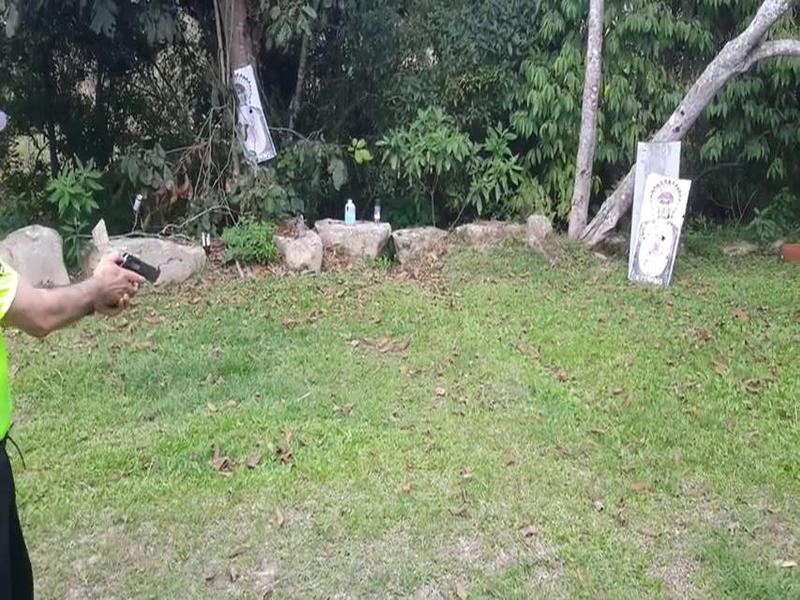Pistola: (107, 239, 168, 311)
